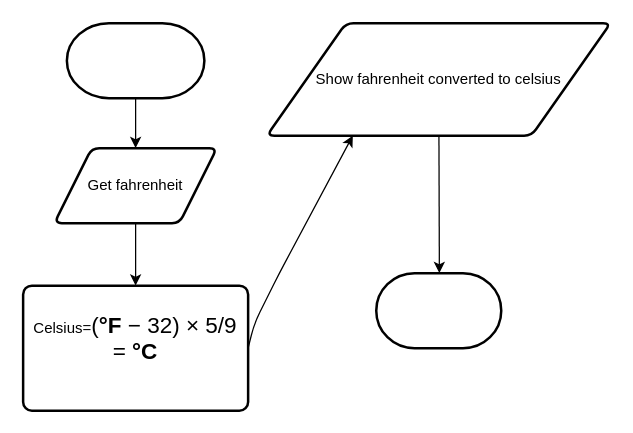
Image size: 633x433. Some labels were removed from this diagram. Each missing label, with the box of its shape:
Start: (65, 21, 205, 99)
Stop: (374, 271, 502, 349)
